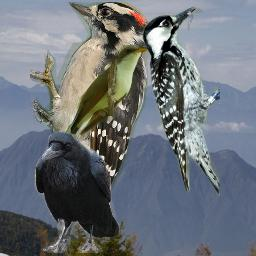Crow: (34, 130, 120, 253)
Cuckoo: (52, 45, 148, 163)
Woodpecker: (30, 2, 155, 256), (142, 6, 220, 196)
